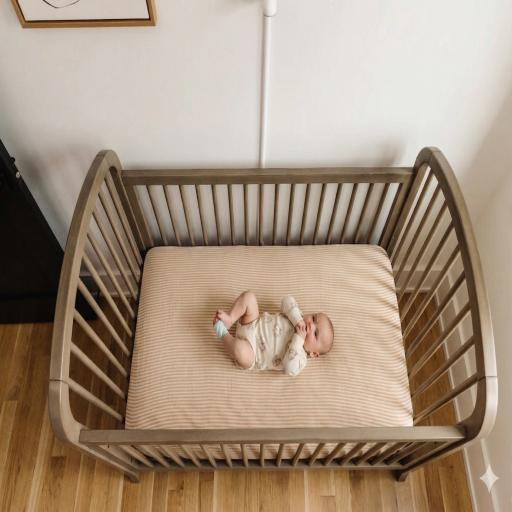baby: (213, 291, 333, 376)
crib: (151, 208, 382, 428)
